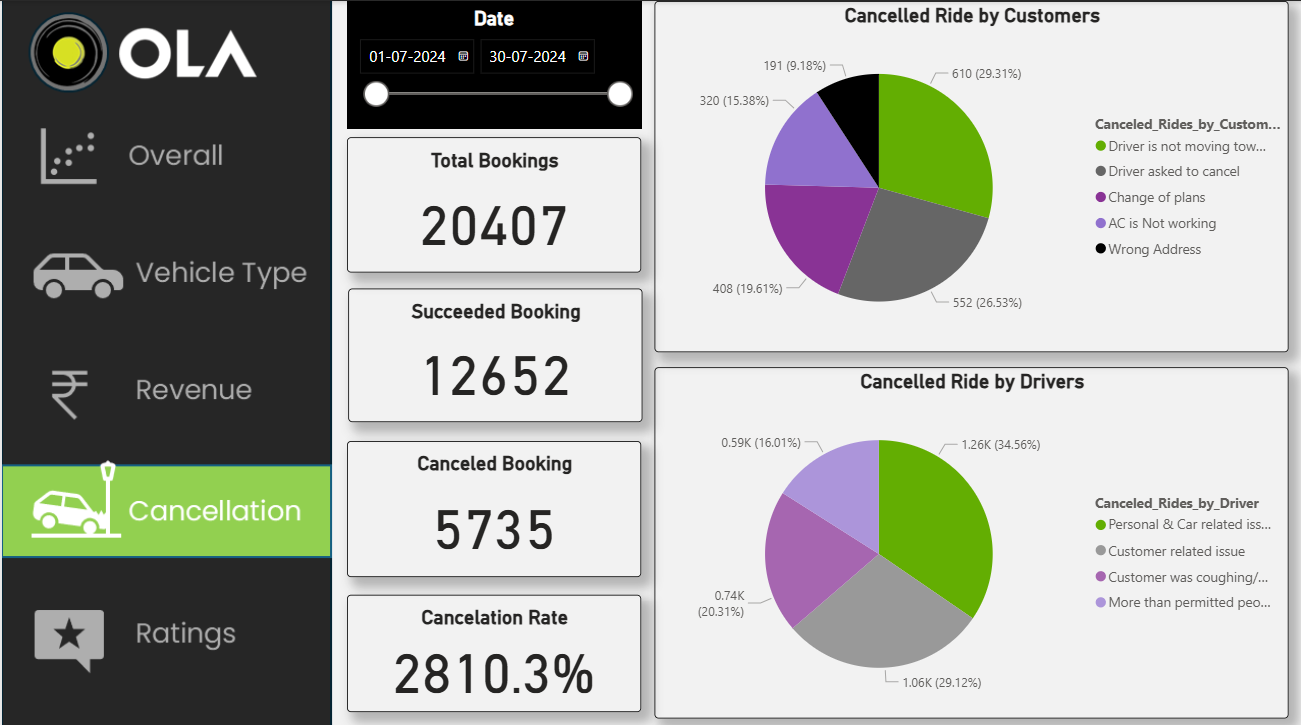

What the dashboard file says about the page in this screenshot:
{"tool":"powerbi","page":{"name":"Cancellation","canvas":[1280,720],"ordinal":3},"visuals":[{"type":"actionButton","box":[0,336.2,325.2,95.7],"z":0},{"type":"actionButton","box":[0,218.4,325.2,95.7],"z":1000},{"type":"actionButton","box":[0,344.8,325.2,73.6],"z":2000},{"type":"actionButton","box":[2.5,582.8,325.2,81],"z":3000},{"type":"actionButton","box":[2.5,103.1,325.2,83.4],"z":4000},{"type":"pieChart","title":"Cancelled Ride by Drivers","fields":{"Category":["July.Canceled_Rides_by_Driver"],"Y":["CountNonNull(July.Canceled_Rides_by_Driver)"]},"box":[640,360,622.5,345],"z":5000},{"type":"pieChart","title":"Cancelled Ride by Customers","fields":{"Category":["July.Canceled_Rides_by_Customer"],"Y":["CountNonNull(July.Canceled_Rides_by_Customer)"]},"box":[640,0,622.5,345],"z":6000},{"type":"slicer","title":"Date","fields":{"Values":["July.Date"]},"box":[338.8,0,288.8,125],"z":7000},{"type":"card","title":"Total Bookings","fields":{"Values":["Count(July.Booking_ID)"]},"box":[338.8,133.8,288.8,132.5],"z":8000},{"type":"card","title":"Succeeded Booking","fields":{"Values":["Count(July.Booking_ID)"]},"box":[340,282.5,288.8,131.2],"z":9000},{"type":"card","title":"Canceled Booking","fields":{"Values":["Count(July.Booking_ID)"]},"box":[338.8,432.5,288.8,133.8],"z":10000},{"type":"card","title":"Cancelation Rate","fields":{"Values":["July.CanceledPercentage"]},"box":[338.8,582.5,288.8,115],"z":11000}]}

Visuals, with their boxes in screenshot pixels (x1, y1, x2, y2), scaled from the page's 1280x720 canvas onto the 1301x725 screenshot:
actionButton: detection(0, 339, 331, 435)
actionButton: detection(0, 220, 331, 316)
actionButton: detection(0, 347, 331, 421)
actionButton: detection(3, 587, 333, 668)
actionButton: detection(3, 104, 333, 188)
"Cancelled Ride by Drivers" pieChart: detection(650, 362, 1283, 710)
"Cancelled Ride by Customers" pieChart: detection(650, 0, 1283, 347)
"Date" slicer: detection(344, 0, 638, 126)
"Total Bookings" card: detection(344, 135, 638, 268)
"Succeeded Booking" card: detection(346, 284, 639, 417)
"Canceled Booking" card: detection(344, 436, 638, 570)
"Cancelation Rate" card: detection(344, 587, 638, 702)
